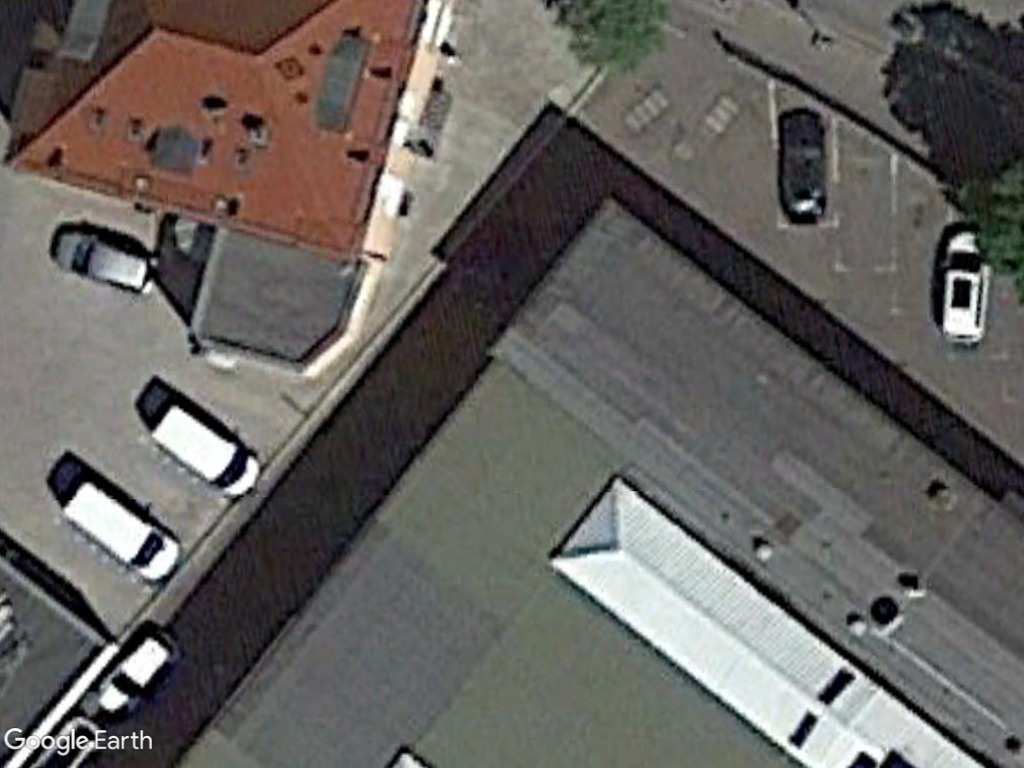car: (48, 226, 166, 298), (938, 220, 996, 349)
van: (56, 474, 182, 581), (144, 401, 262, 497)
